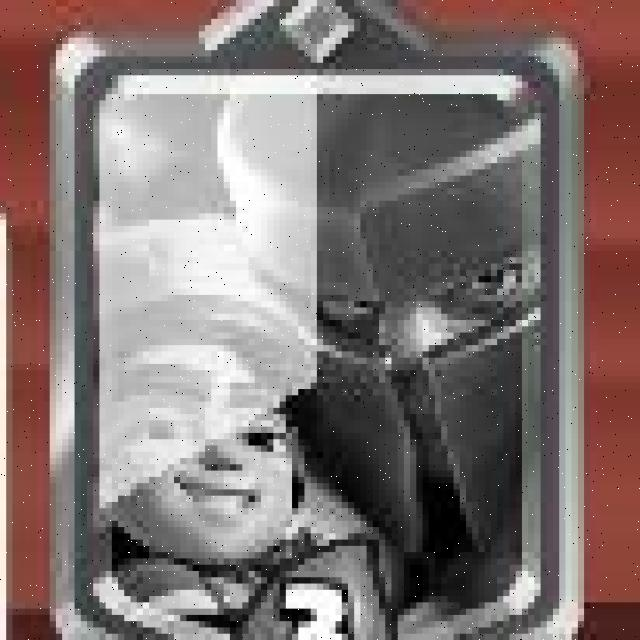Little_Prince: (52, 34, 587, 640)
